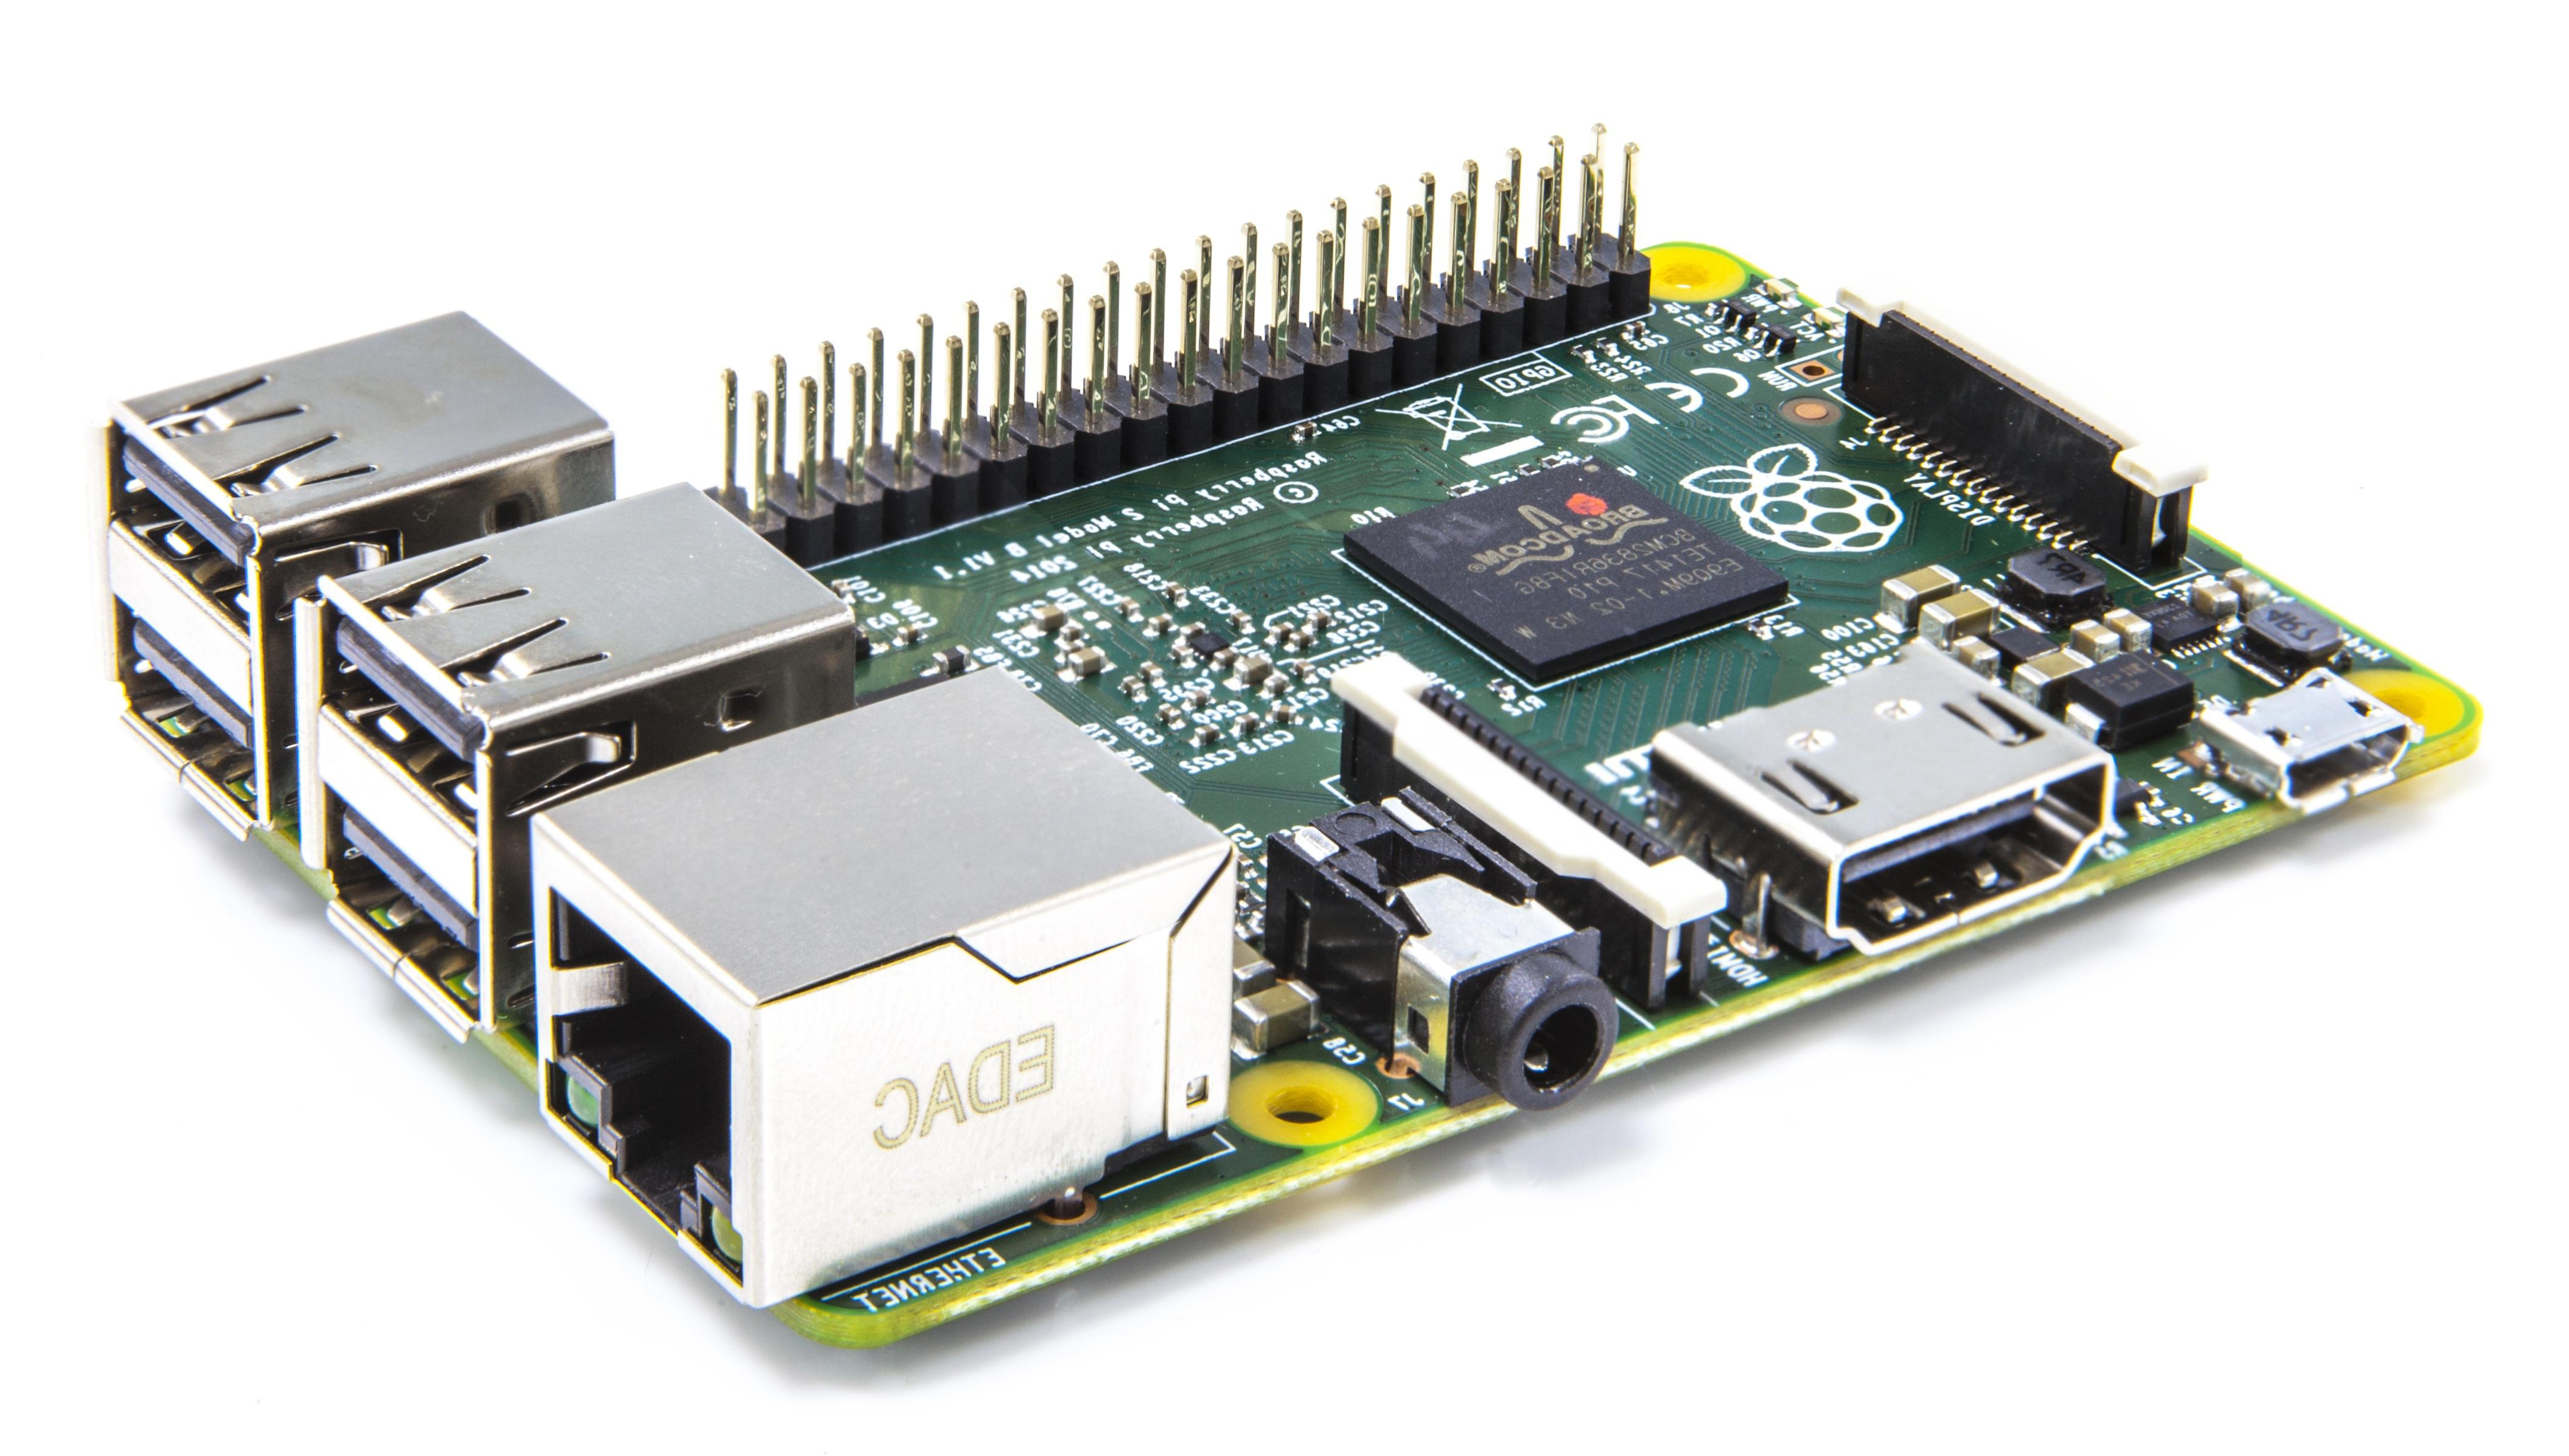audiojack: (1247, 787, 1609, 1122)
bchi: (1343, 452, 1794, 655)
ethernet: (529, 653, 1244, 1276)
gpio: (716, 139, 1671, 540)
usb: (303, 475, 854, 1009), (101, 321, 619, 807)
